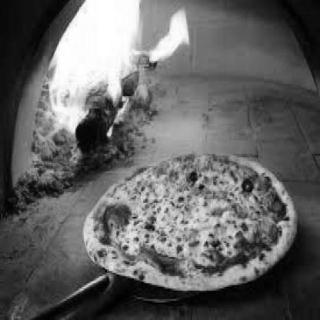Fire: (40, 1, 192, 141)
